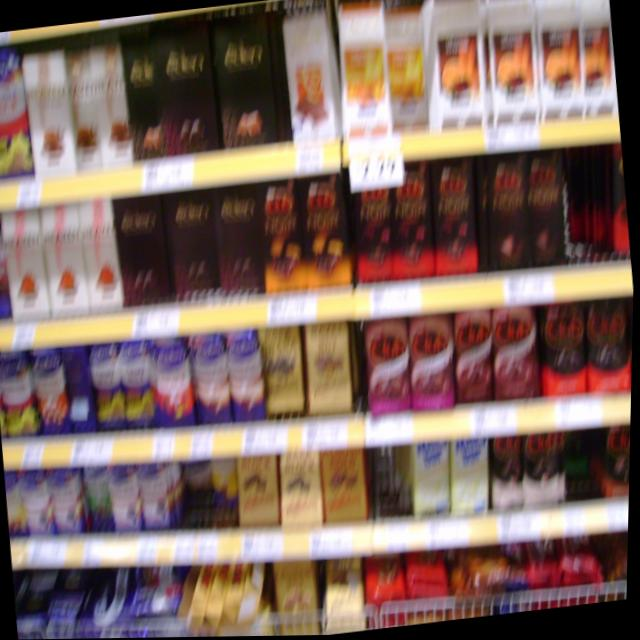q145: (0, 36, 42, 186)
